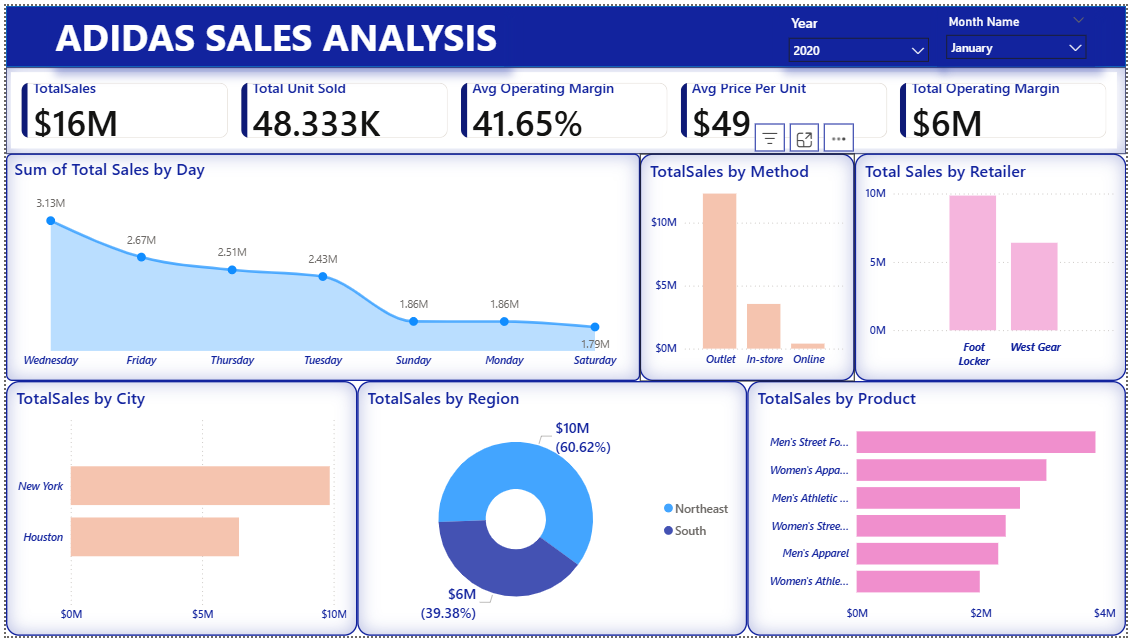

What the dashboard file says about the page in this screenshot:
{"tool":"powerbi","page":{"name":"Page 1","canvas":[1280,720],"ordinal":0},"visuals":[{"type":"cardVisual","fields":{"Data":["Measure.TotalSales","Measure.Total Unit Sold","Measure.Avg  Operating Margin","Measure.Avg Price Per Unit","Measure.Total Operating Margin"]},"box":[0,69.7,1280,99.5],"z":0},{"type":"lineChart","fields":{"Y":["Sum(Fact_sales_table.Total Sales)"],"Category":["Dim_Date.Day Name"]},"box":[0,168.6,725,260],"z":1000},{"type":"barChart","fields":{"Category":["Dim_Retailer.City"],"Y":["Measure.TotalSales"]},"box":[0,428.6,401.4,291.4],"z":2000},{"type":"clusteredBarChart","fields":{"Y":["Measure.TotalSales"],"Category":["Dim_Product.Product"]},"box":[847.1,429.2,432.9,291.1],"z":3000},{"type":"columnChart","fields":{"Y":["Measure.TotalSales"],"Category":["Fact_sales_table.Sales Method"]},"box":[724.5,168.2,245.5,260],"z":4000},{"type":"columnChart","fields":{"Category":["Dim_Retailer.Retailer"],"Y":["Sum(Fact_sales_table.Total Sales)"]},"box":[970,168.6,310,260],"z":5000},{"type":"donutChart","fields":{"Y":["Measure.TotalSales"],"Category":["Dim_Retailer.Region"]},"box":[401.8,429.2,445.3,291.1],"z":6000},{"type":"shape","box":[0,0,1280,69.7],"z":7000},{"type":"textbox","box":[51,0,517.5,69.7],"z":8000},{"type":"slicer","fields":{"Values":["Dim_Date.Year"]},"box":[884.5,2.5,180.4,64.7],"z":9000},{"type":"slicer","fields":{"Values":["Dim_Date.Month Name"]},"box":[1064.8,5,180.4,64.7],"z":10000}]}

Visuals, with their boxes in screenshot pixels (x1, y1, x2, y2), scaled from the page's 1280x720 canvas onto the 1130x640 screenshot:
cardVisual - Measure.TotalSales x Measure.Total Unit Sold: box(0, 62, 1129, 150)
lineChart - Sum(Fact_sales_table.Total Sales) x Dim_Date.Day Name: box(0, 150, 640, 381)
barChart - Dim_Retailer.City x Measure.TotalSales: box(0, 381, 354, 639)
clusteredBarChart - Measure.TotalSales x Dim_Product.Product: box(748, 382, 1129, 639)
columnChart - Measure.TotalSales x Fact_sales_table.Sales Method: box(640, 150, 856, 381)
columnChart - Dim_Retailer.Retailer x Sum(Fact_sales_table.Total Sales): box(856, 150, 1129, 381)
donutChart - Measure.TotalSales x Dim_Retailer.Region: box(355, 382, 748, 639)
shape: box(0, 0, 1129, 62)
textbox: box(45, 0, 502, 62)
slicer - Dim_Date.Year: box(781, 2, 940, 60)
slicer - Dim_Date.Month Name: box(940, 4, 1099, 62)
